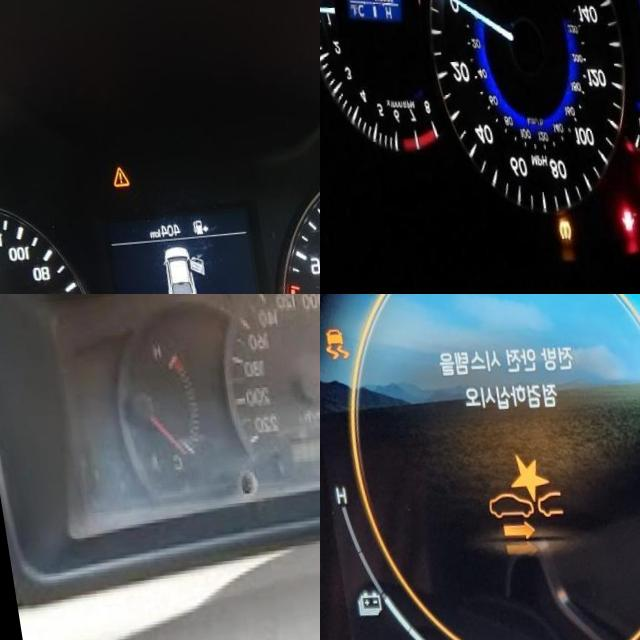Central Warning lamp: (105, 169, 125, 192)
